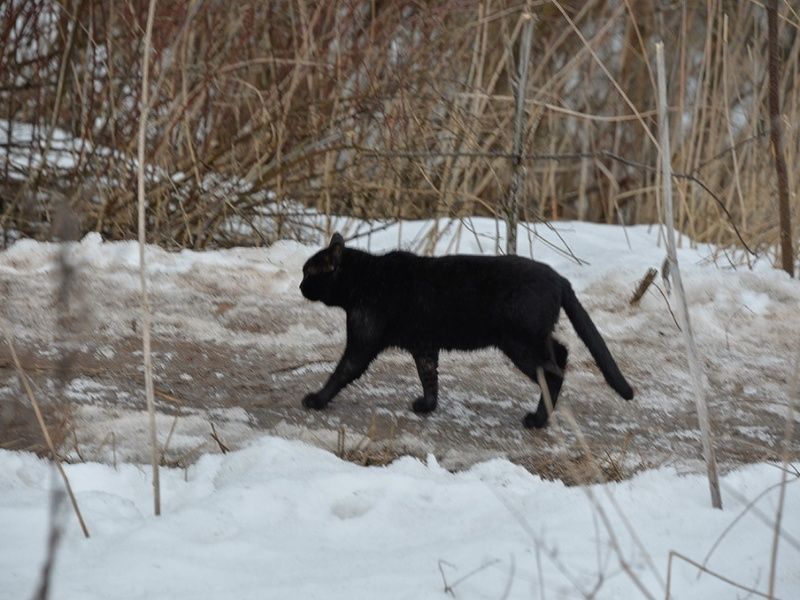cat: (296, 230, 637, 439)
